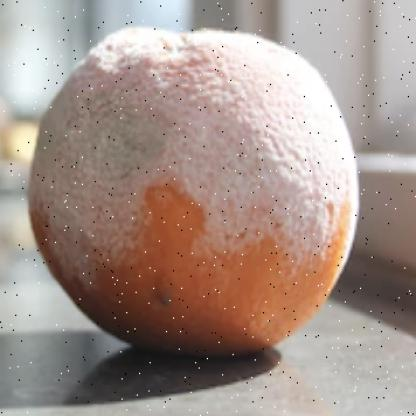rotten: (27, 27, 361, 363)
